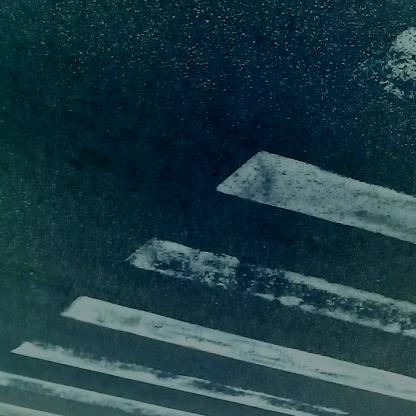crosswalk: (4, 80, 416, 411)
